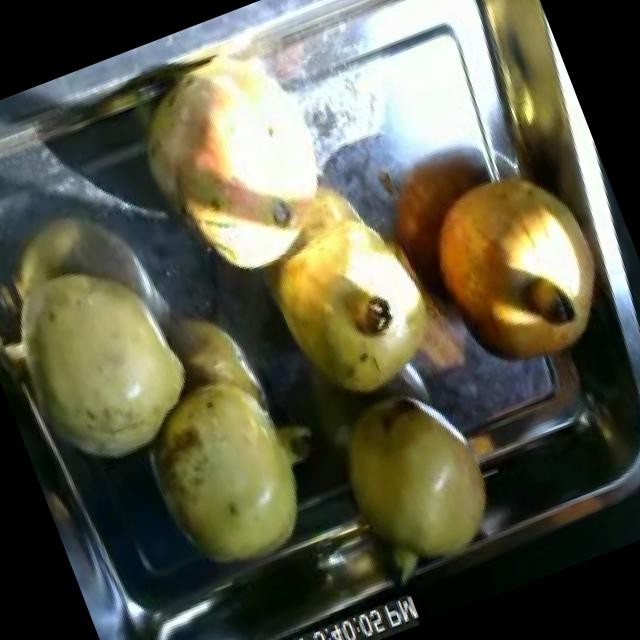fruit: (105, 23, 368, 311), (0, 224, 220, 495), (118, 344, 356, 593), (404, 143, 628, 397), (247, 186, 461, 420), (312, 362, 519, 592)
